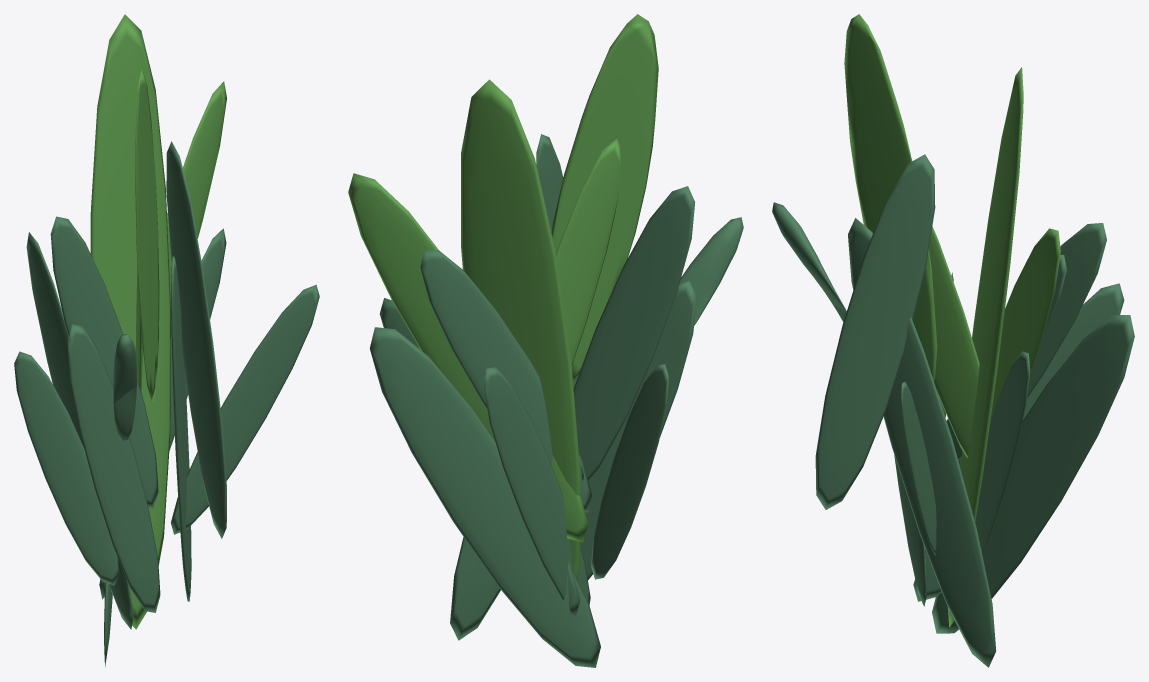
Rendered from grass1.fbx.
3 renders of one model, left to right at view 1: azimuth 30°, elevation 25°; view 2: azimuth 150°, elevation 25°; view 3: azimuth 270°, elevation 25°, orthographic.
Visible parts, largest first — view 1: grass; view 2: grass; view 3: grass.
Boxes of the visible parts, bbox=[...] form: grass: bbox=[14, 14, 319, 666]; grass: bbox=[348, 14, 743, 667]; grass: bbox=[772, 14, 1134, 667].
Size of the model in its own units: 139 by 299 by 159.
